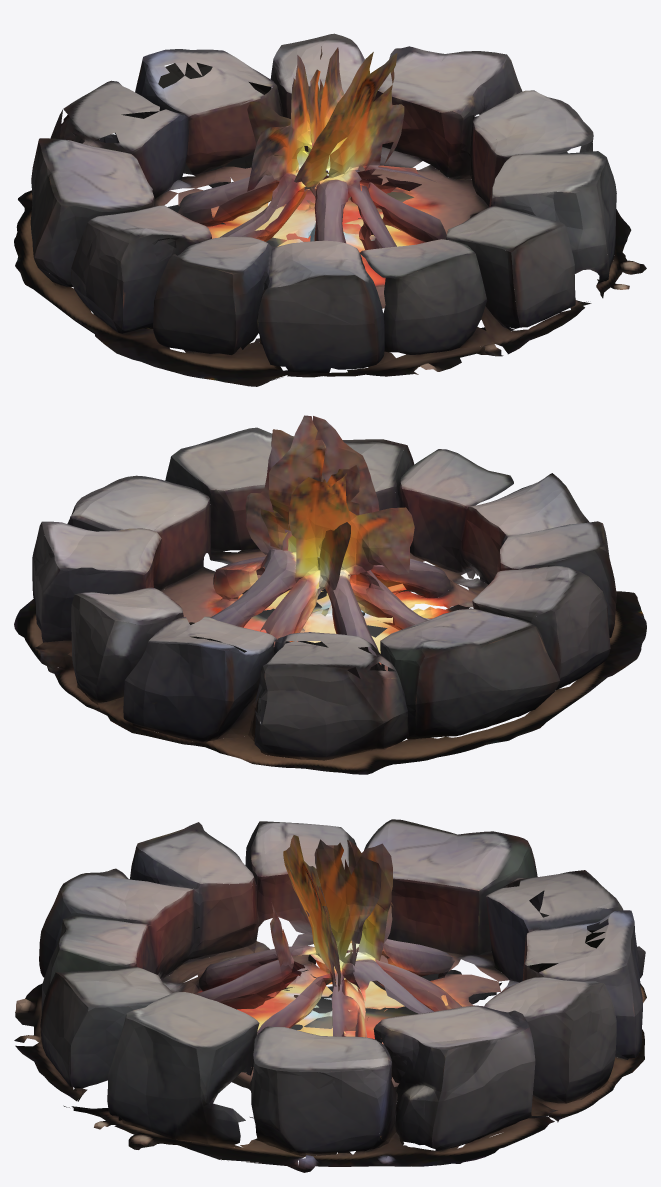
Rendered from prop_campfire.glb.
The picture shows the model from 3 angles, top to bottom: view 1: azimuth 30°, elevation 25°; view 2: azimuth 150°, elevation 25°; view 3: azimuth 270°, elevation 25°; orthographic projection. The views are drawn at different scales.
Parts seen in each view (by area): view 1: world; view 2: world; view 3: world.
Boxes of the visible parts, box(x1,y1,x2,y2) form: world: box(14, 33, 646, 386); world: box(14, 415, 646, 774); world: box(14, 819, 646, 1172).
Size of the model in its own units: 0.9738 by 0.4203 by 0.9602.
Materials: 1 (1 with a texture image).
